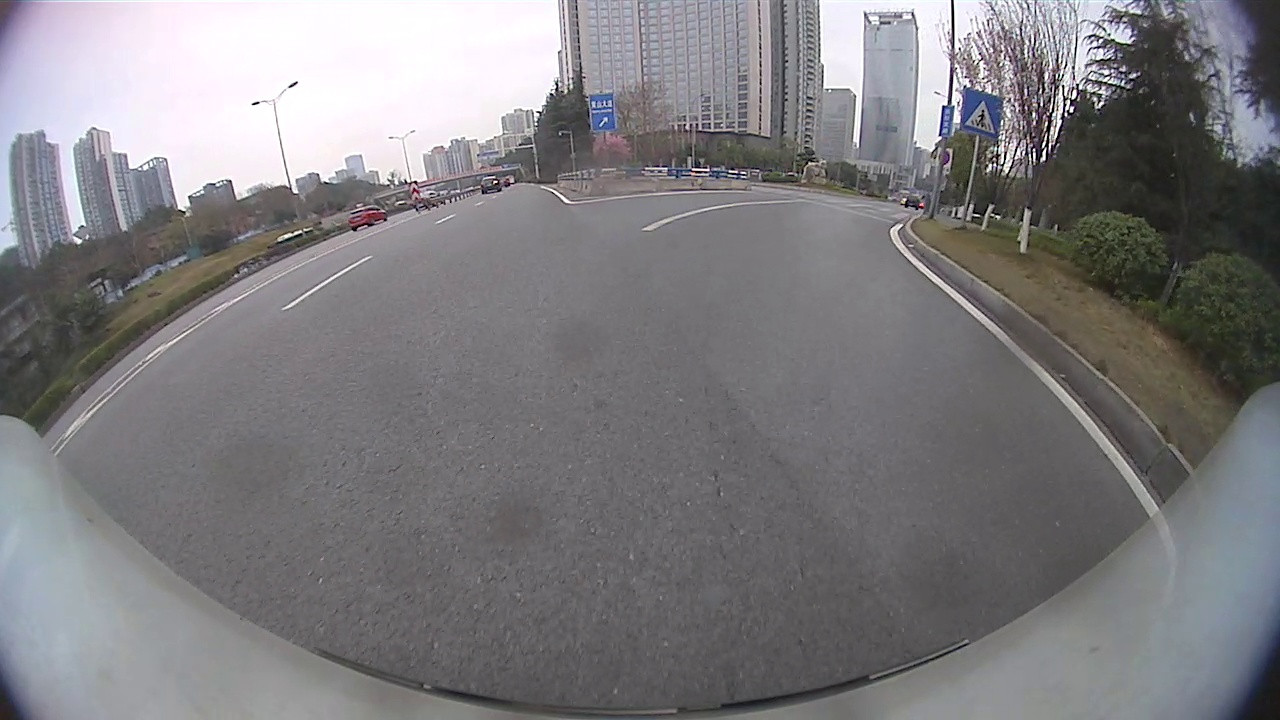car: (347, 204, 388, 230), (480, 174, 503, 194)
